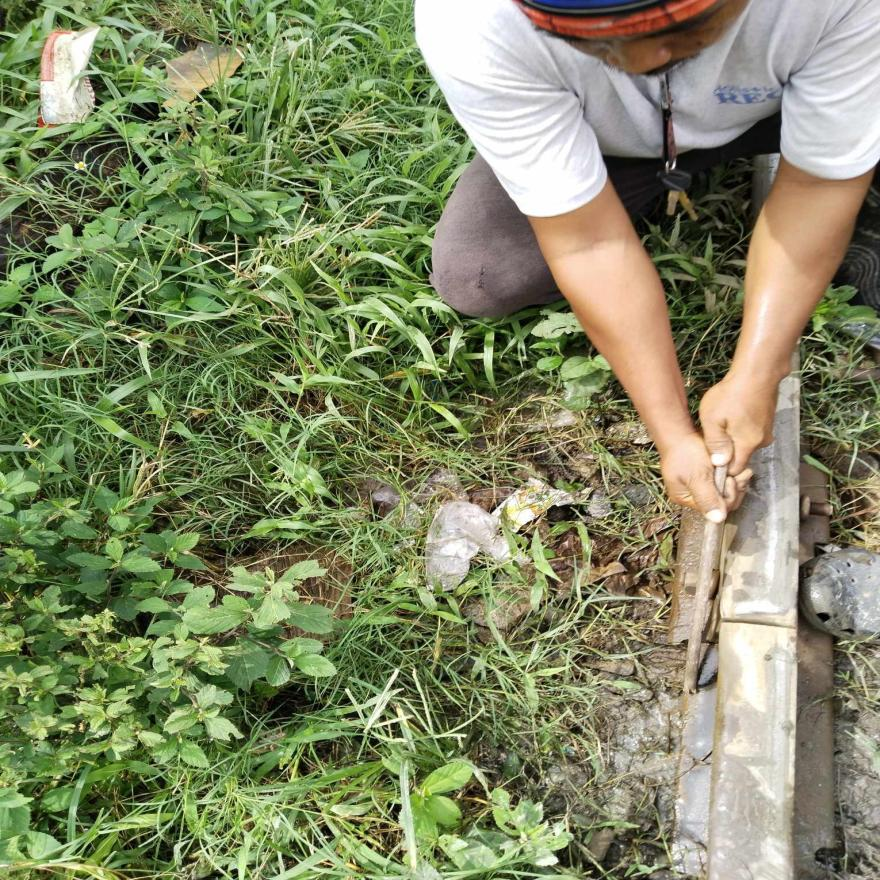railway-gap: (707, 564, 808, 690)
